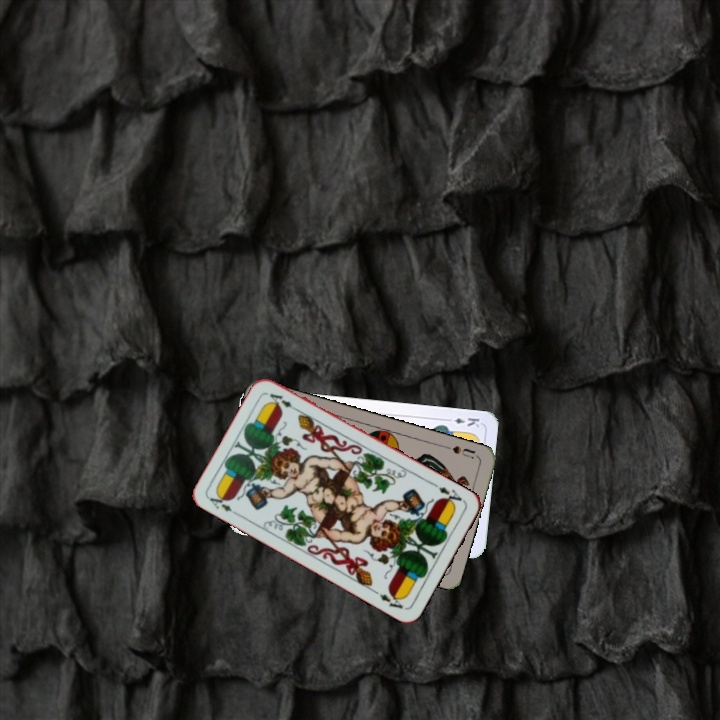EA: (205, 490, 242, 519), (434, 483, 467, 508)
EK: (442, 414, 482, 430)
SU: (441, 441, 480, 461)
